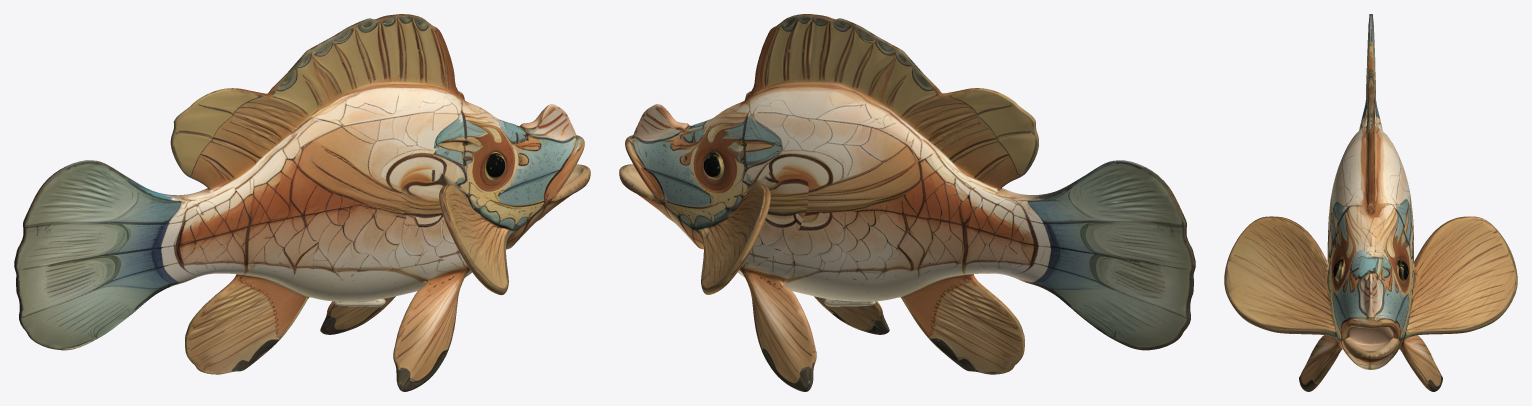
The model's file is dongtou-v1.glb.
3 views of the same model, side by side, from view 1: azimuth 30°, elevation 25°; view 2: azimuth 150°, elevation 25°; view 3: azimuth 270°, elevation 25° (orthographic). The views are drawn at different scales.
Visible parts, largest first — view 1: node_0; view 2: node_0; view 3: node_0.
Boxes of the visible parts, x1,y1,x2,y2 form: node_0: (14,14,590,391); node_0: (619,14,1195,391); node_0: (1224,14,1517,391).
Bounding box in the file's own units: 1.19 × 0.6833 × 0.5957.
1 material, 1 textured.
